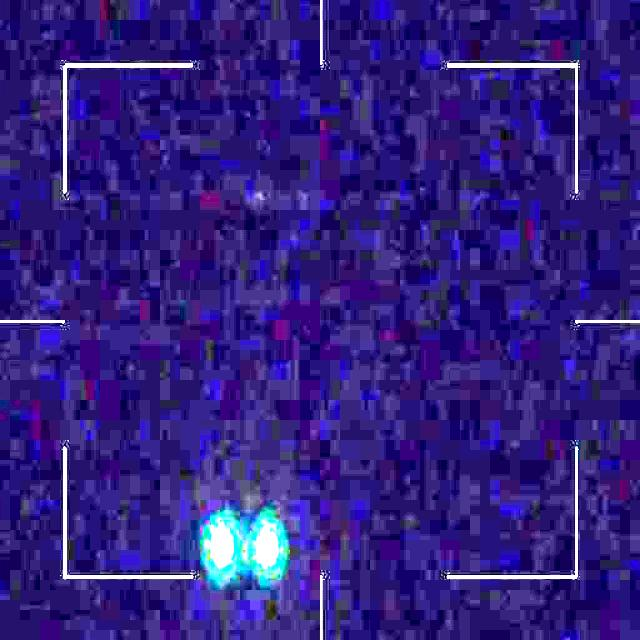bird: (208, 522, 279, 570)
